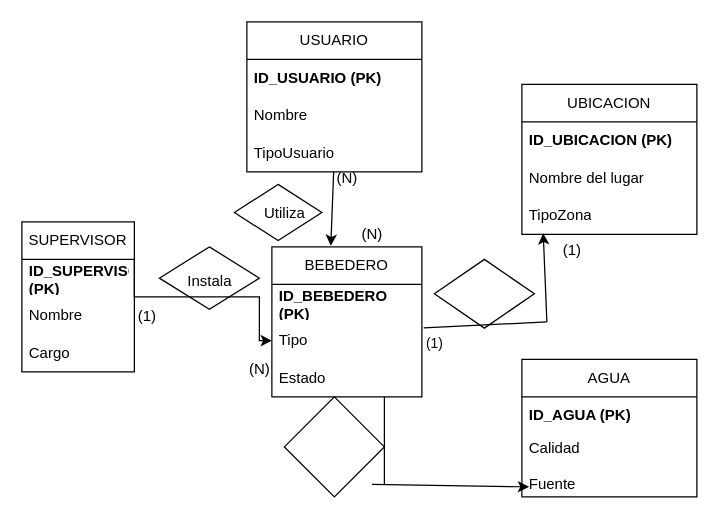
Image size: 719x519. Some labels were removed from this diagram. Each missing label, with the centre of its shape:
"Distribuye" goes at (333,446).
"Ubicado en" goes at (483,293).
